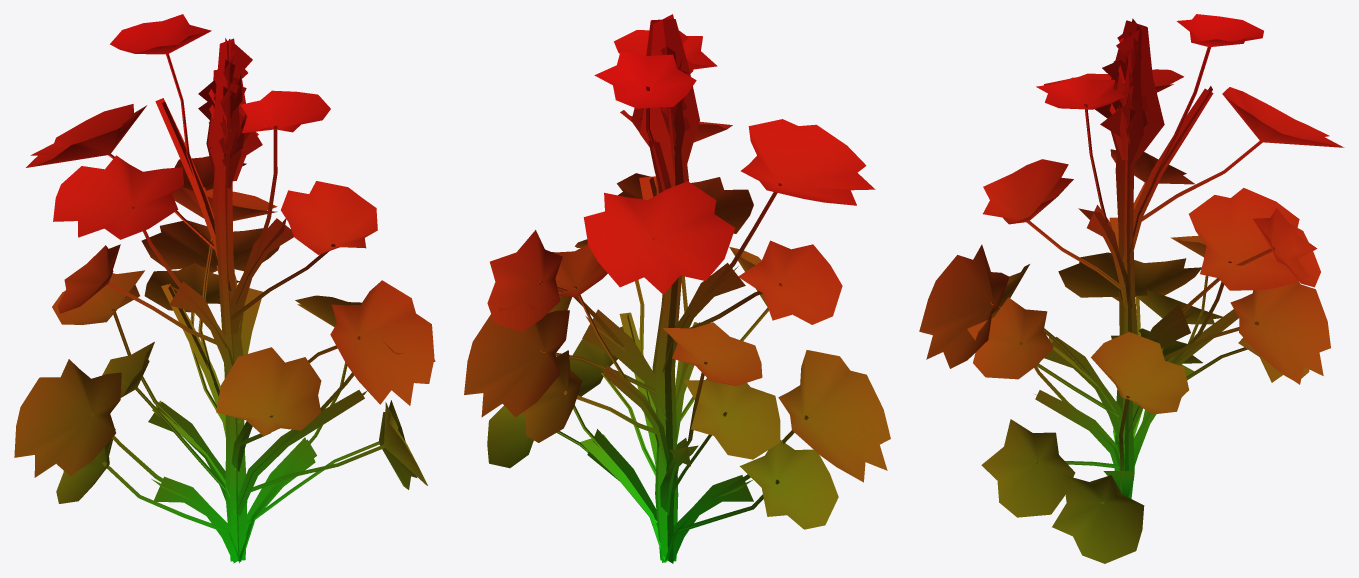
Rendered from Var5_LOD0.fbx.
3 views of the same model, side by side, from view 1: azimuth 30°, elevation 25°; view 2: azimuth 150°, elevation 25°; view 3: azimuth 270°, elevation 25° (orthographic). The views are drawn at different scales.
Visible parts, largest first — view 1: _a8fd_Var5_LOD0; view 2: _a8fd_Var5_LOD0; view 3: _a8fd_Var5_LOD0.
Boxes of the visible parts, left/top/right/bottom form: _a8fd_Var5_LOD0: left=14, top=14, right=435, bottom=563; _a8fd_Var5_LOD0: left=464, top=14, right=890, bottom=563; _a8fd_Var5_LOD0: left=919, top=14, right=1344, bottom=563.
Size of the model in its own units: 73.12 by 98.92 by 75.15.
